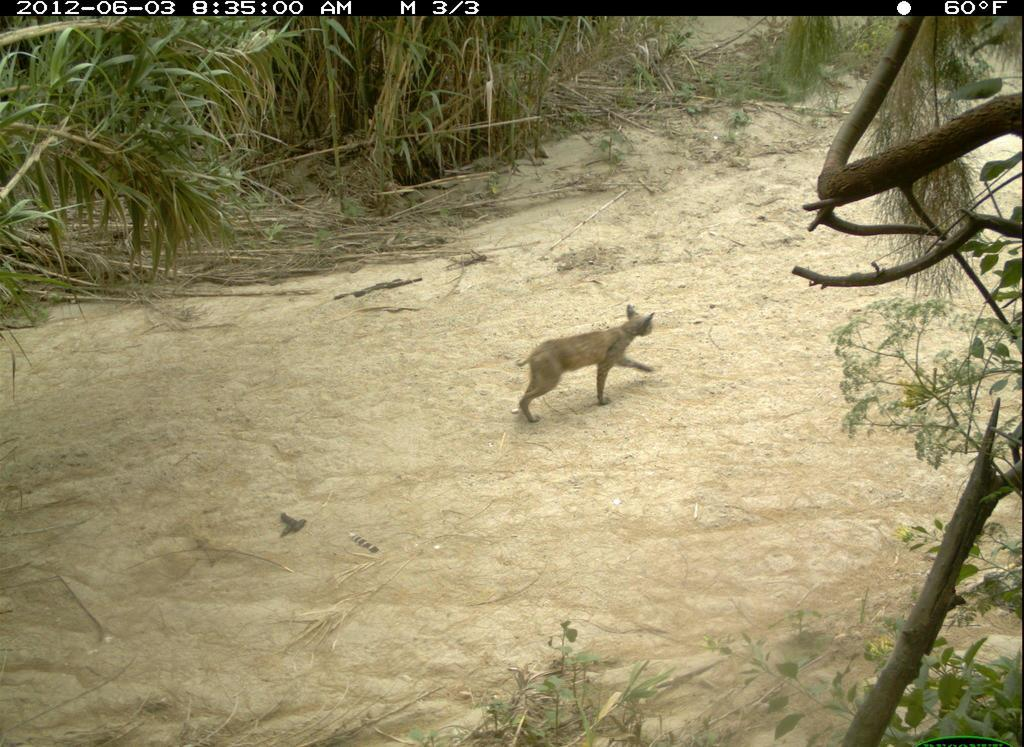bobcat: (504, 295, 662, 428)
